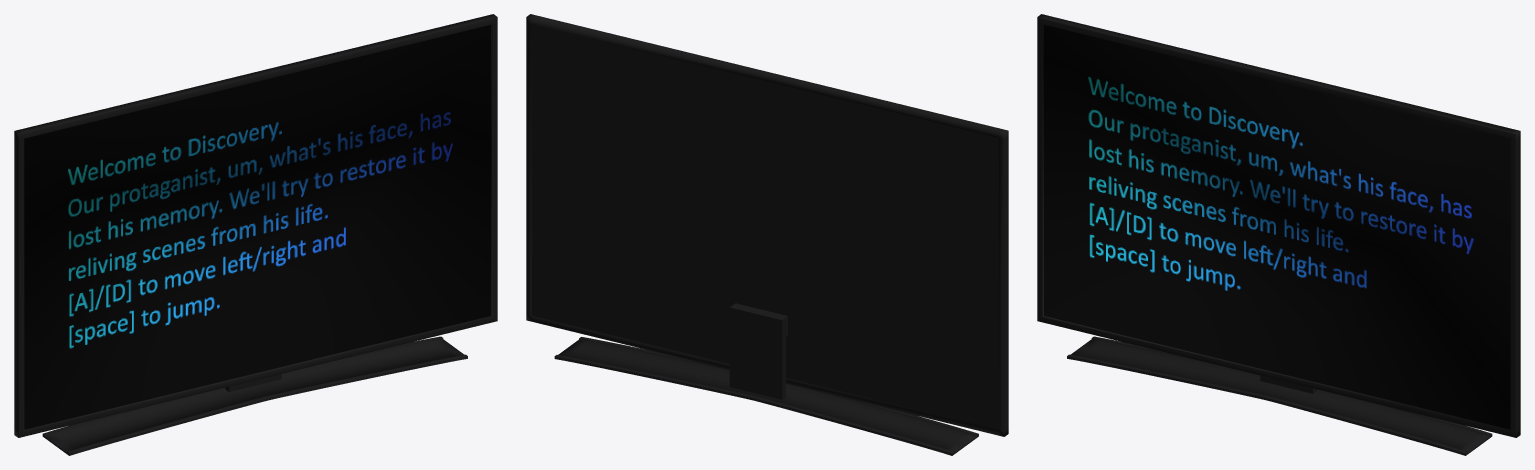
The model's file is Tutorial TV.fbx.
3 renders of one model, left to right at view 1: azimuth 30°, elevation 25°; view 2: azimuth 150°, elevation 25°; view 3: azimuth 330°, elevation 25°, orthographic.
Parts seen in each view (by area): view 1: TV; view 2: TV; view 3: TV.
Boxes of the visible parts, x1=… form: TV: x1=14, y1=14, x2=497, y2=455; TV: x1=526, y1=14, x2=1008, y2=455; TV: x1=1037, y1=14, x2=1520, y2=455.
Bounding box in the file's own units: 1255 × 811 × 122.
2 materials, 1 textured.
